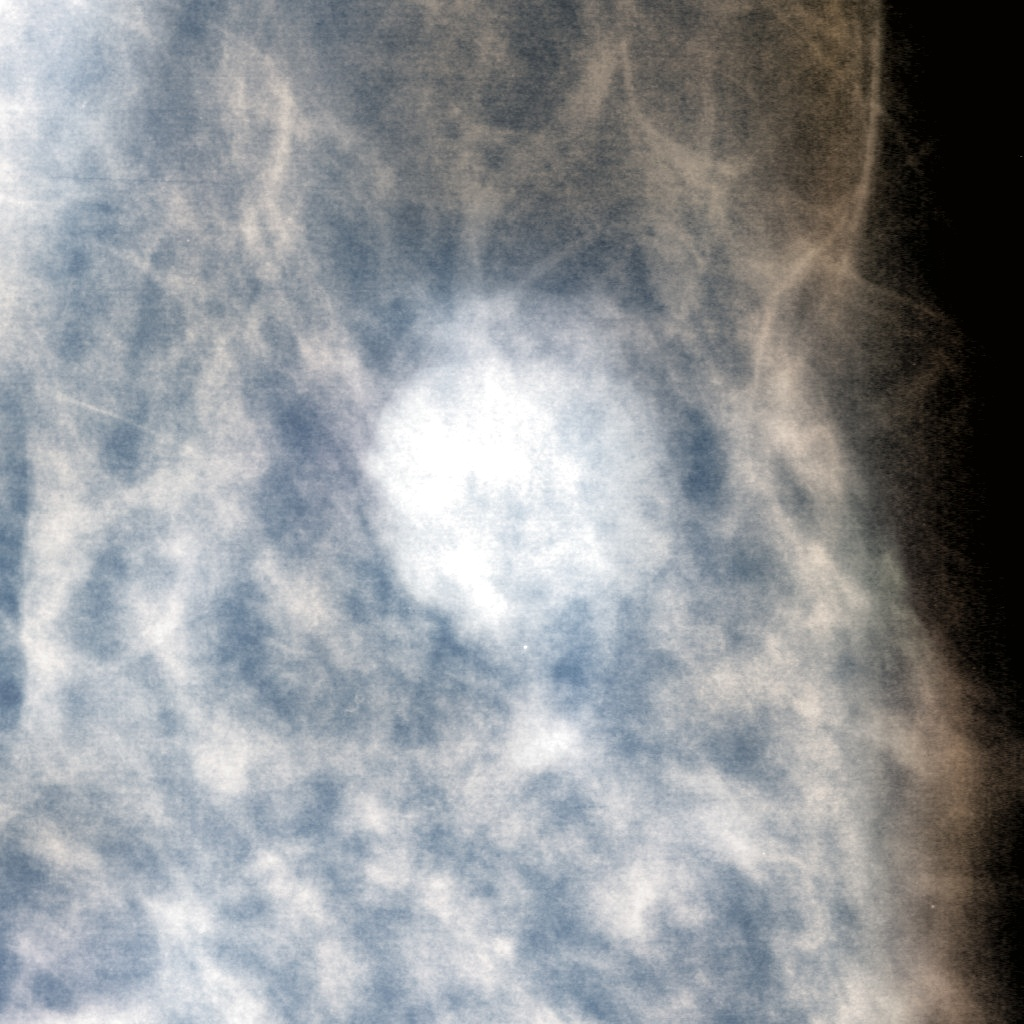tumor: (364, 369, 660, 655)
